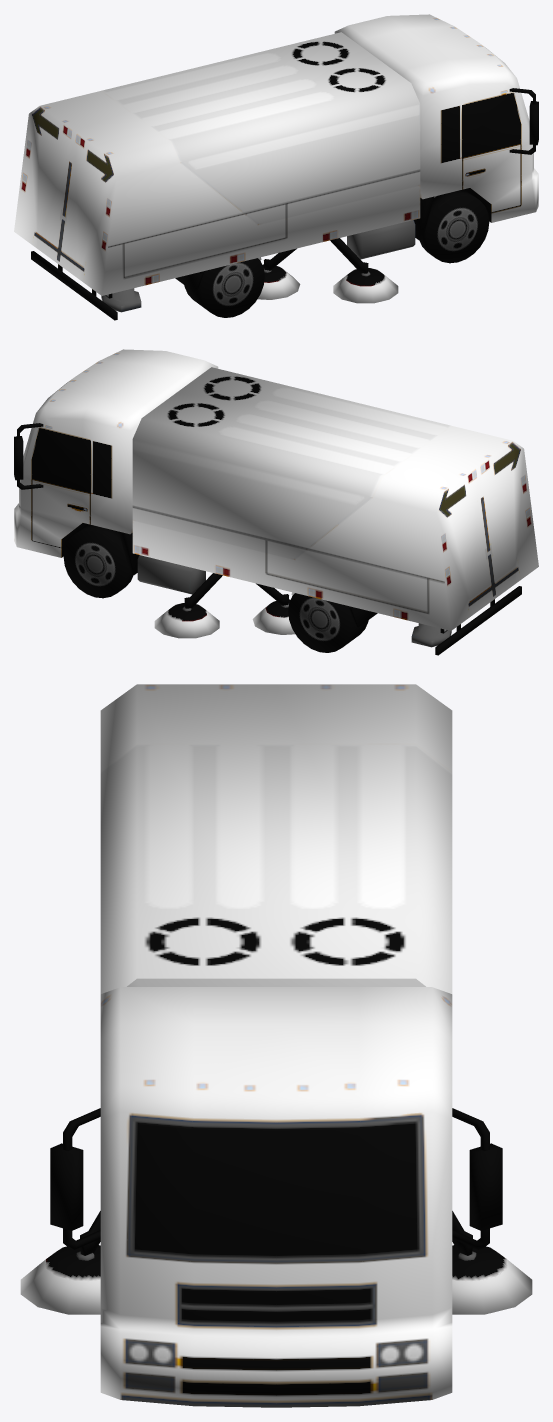
File: Car_QingSao.glb
3 renders of one model, top to bottom at view 1: azimuth 30°, elevation 25°; view 2: azimuth 150°, elevation 25°; view 3: azimuth 270°, elevation 25°, orthographic. The views are drawn at different scales.
Parts seen in each view (by area): view 1: SM_WashingTruck_LowPoly; view 2: SM_WashingTruck_LowPoly; view 3: SM_WashingTruck_LowPoly.
Boxes of the visible parts, x1,y1,x2,y2 form: SM_WashingTruck_LowPoly: (14,14,538,320); SM_WashingTruck_LowPoly: (14,349,538,655); SM_WashingTruck_LowPoly: (20,684,532,1407).
Bounding box in the file's own units: 725 × 283 × 357.
Materials: 1 (1 with a texture image).
